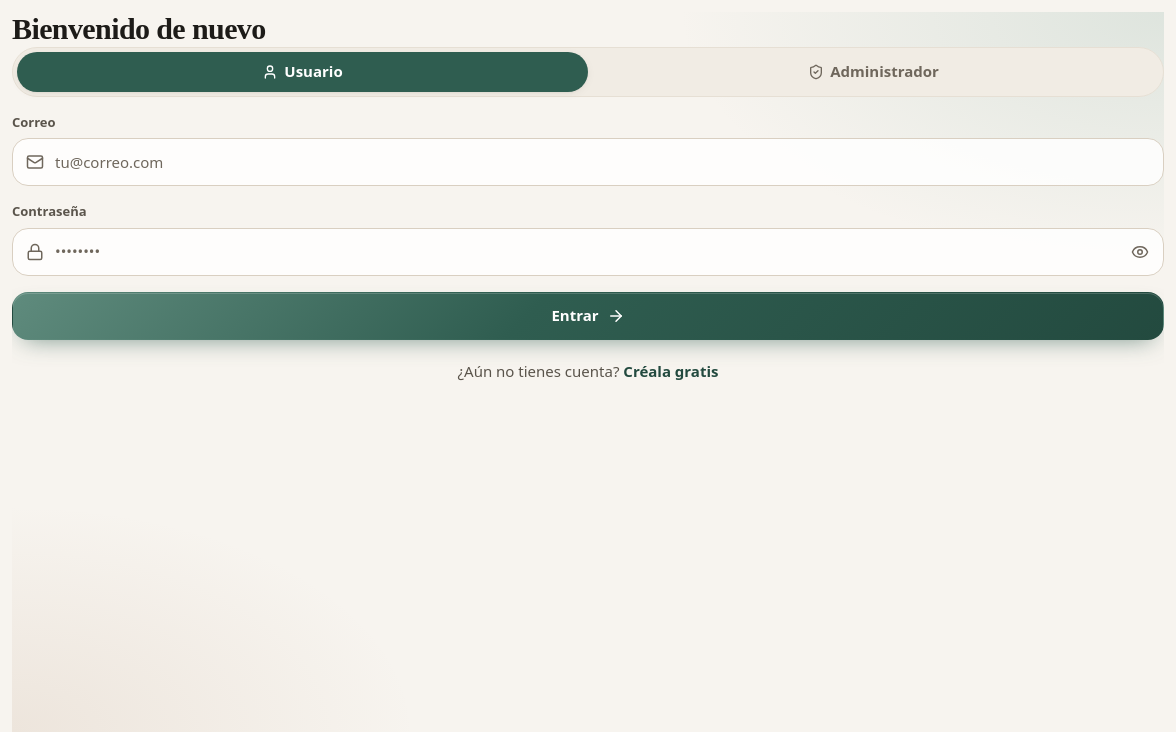
Login page › shows the server error and lets the user try again
Type "ana@correo.com" into the field labelled "Correo" at (588, 162), box [12,138,1164,186]
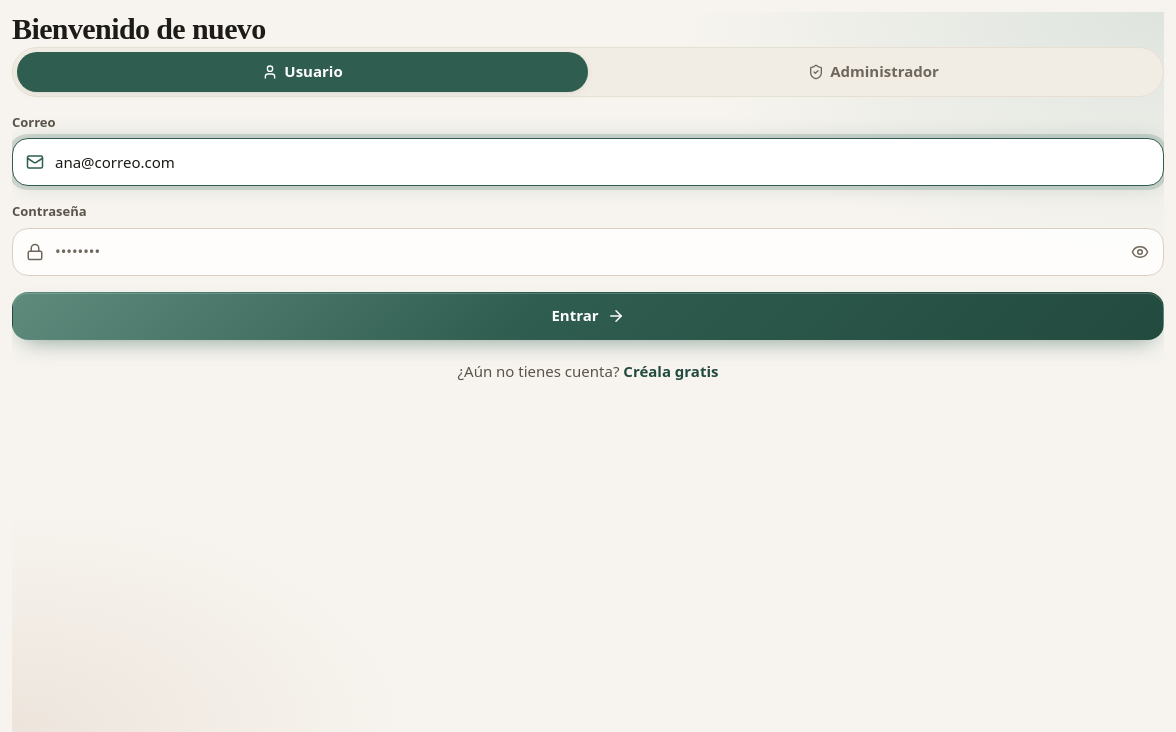
Type "equivocada" into the password field labelled "Contraseña" at (588, 252), box [12,228,1164,276]
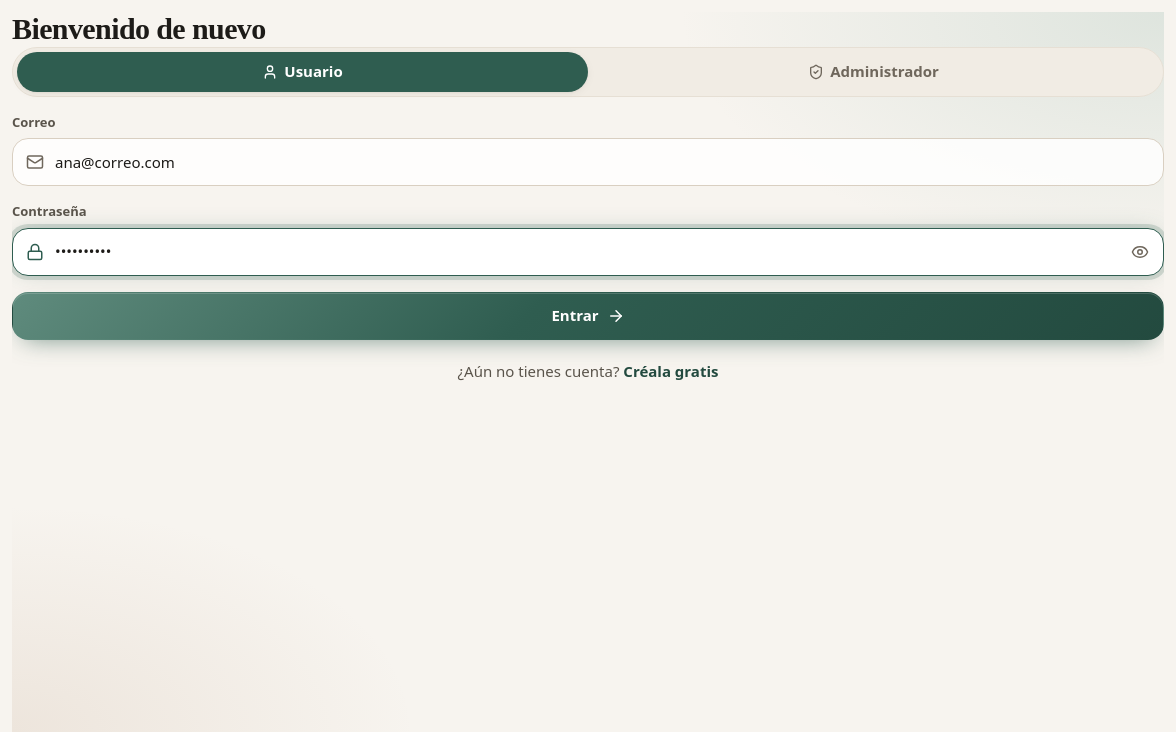
Click the button "Entrar" at (588, 316), box [12,292,1164,340]
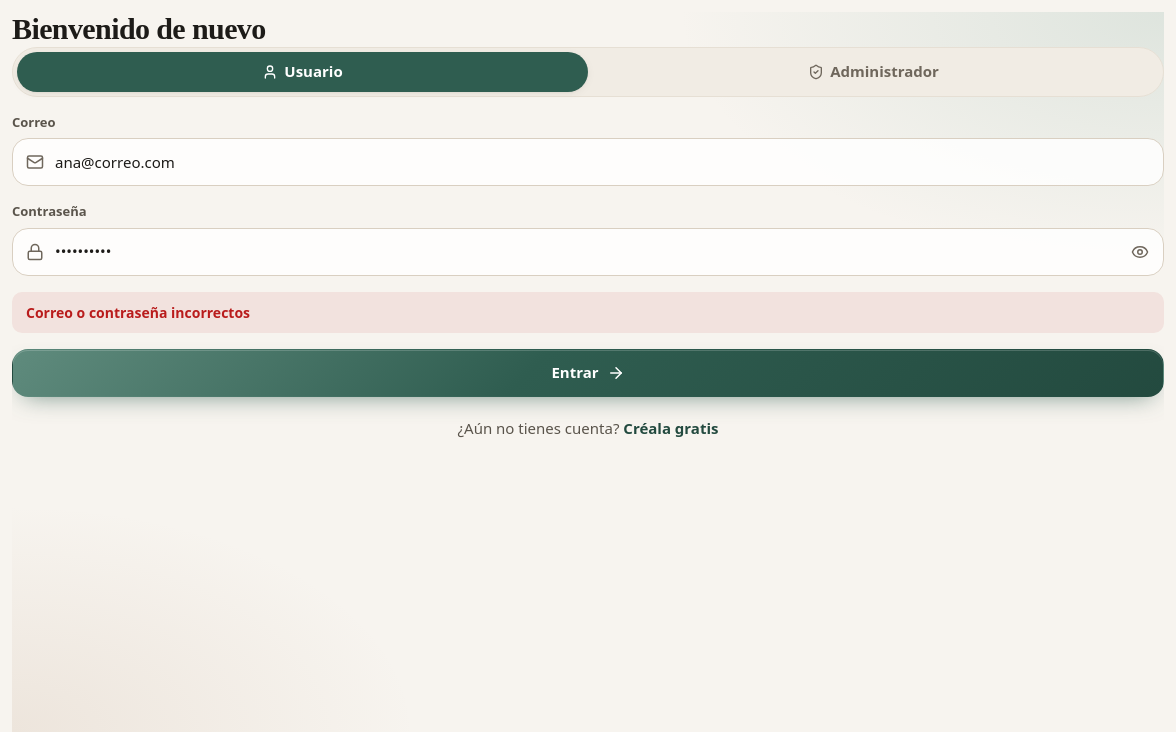
Expected: the button "Entrar" is enabled, [12,348,1164,396]
Expected: the message reads "Correo o contraseña incorrectos", [26,302,250,322]
